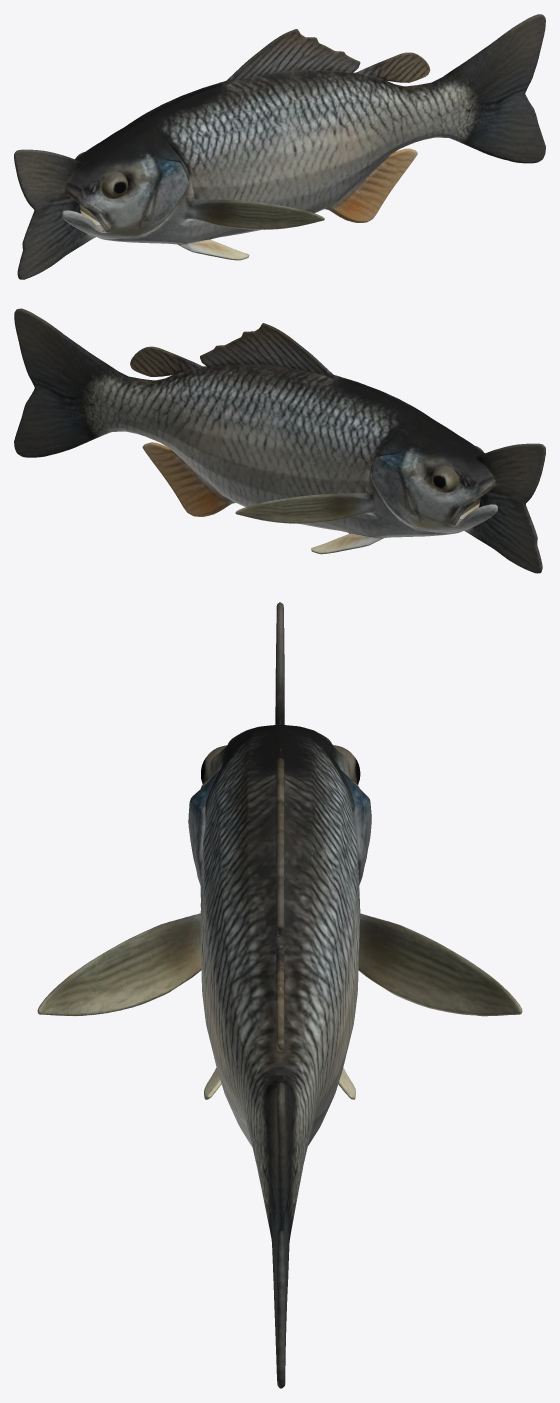
File: fish_school.glb
3 renders of one model, top to bottom at view 1: azimuth 30°, elevation 25°; view 2: azimuth 150°, elevation 25°; view 3: azimuth 270°, elevation 25°, orthographic. The views are drawn at different scales.
Visible parts, largest first — view 1: geometry_0; view 2: geometry_0; view 3: geometry_0.
Boxes of the visible parts, box(x1,y1,x2,y2) form: geometry_0: box(14, 14, 545, 279); geometry_0: box(14, 308, 545, 573); geometry_0: box(37, 602, 522, 1388).
Size of the model in its own units: 1 by 0.3786 by 0.3956.
1 material, 1 textured.
